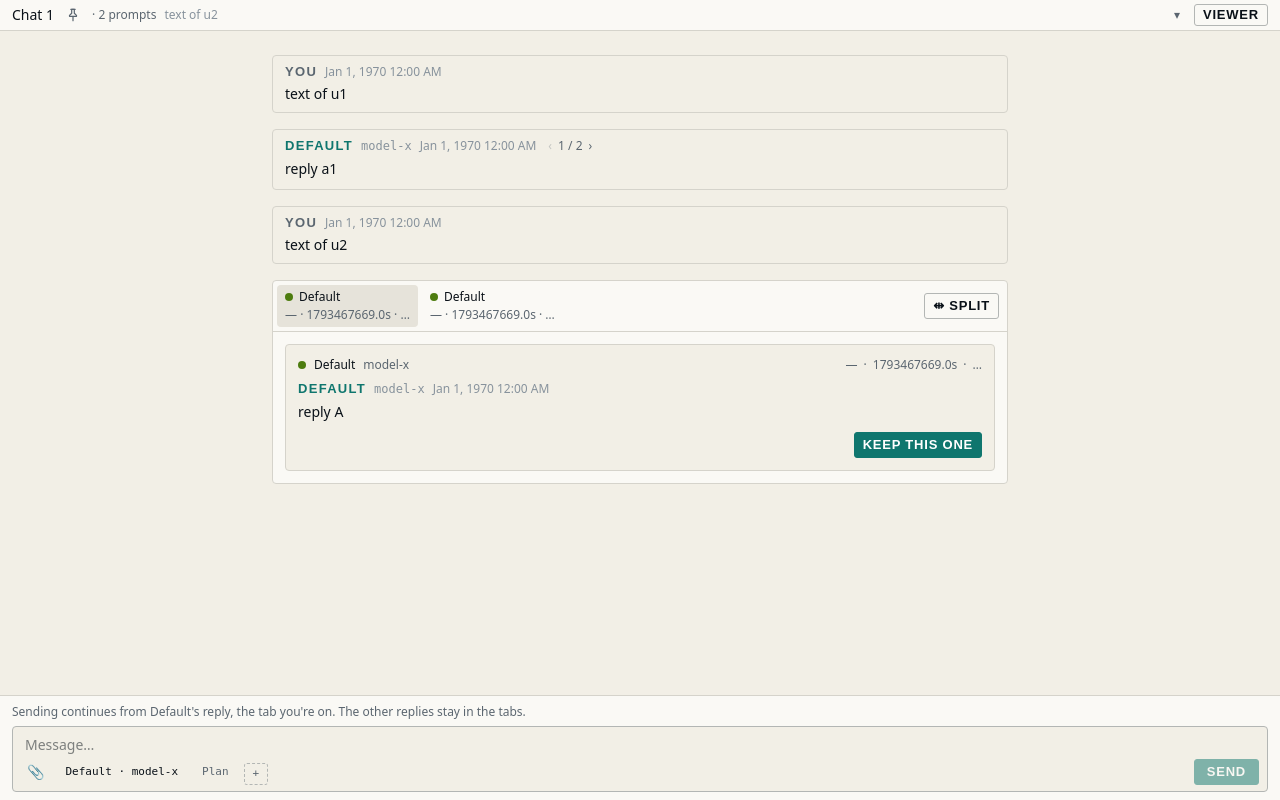
Test: Thread regenerate, edit and branch switching › a variant kept but never continued stays kept after switching branches away and back
What coordinates should you click on to do the following:
click the tab with test id "variant-tab-B"
I would click on:
 (492, 306)
Its box is [422,285,563,327].
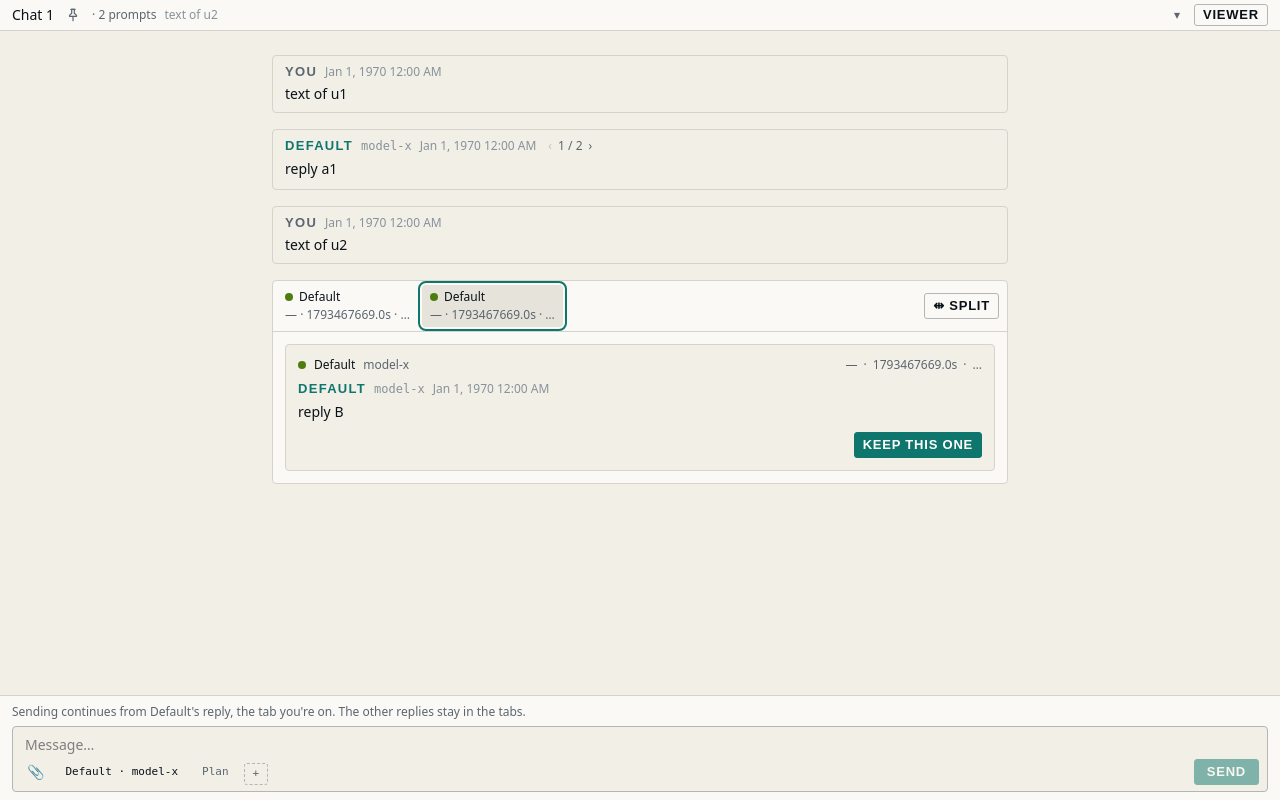
What coordinates should you click on to do the following:
click the button "Keep this one"
I would click on:
 (918, 445)
Its box is [854,432,982,458].
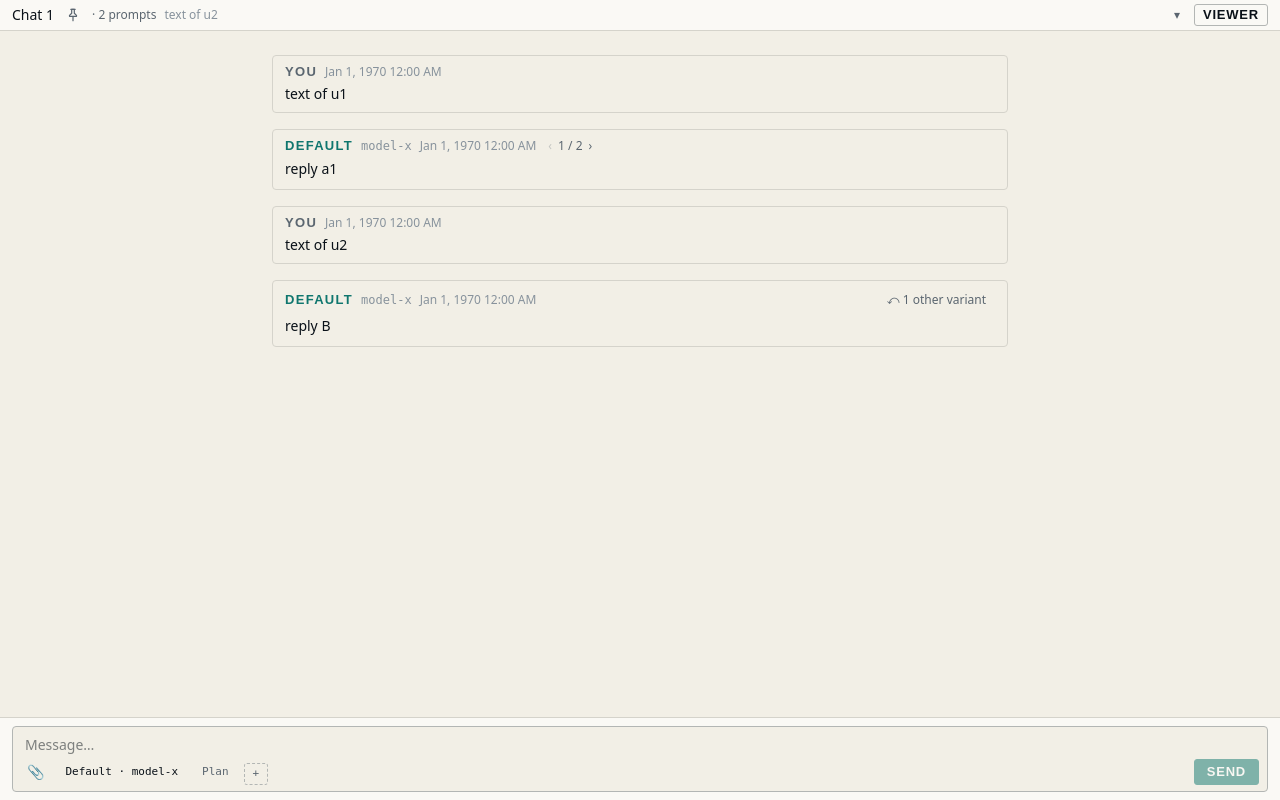
What coordinates should you click on to do the following:
click the button named "Next branch"
I would click on:
 (590, 146)
Its box is [584,140,596,152].
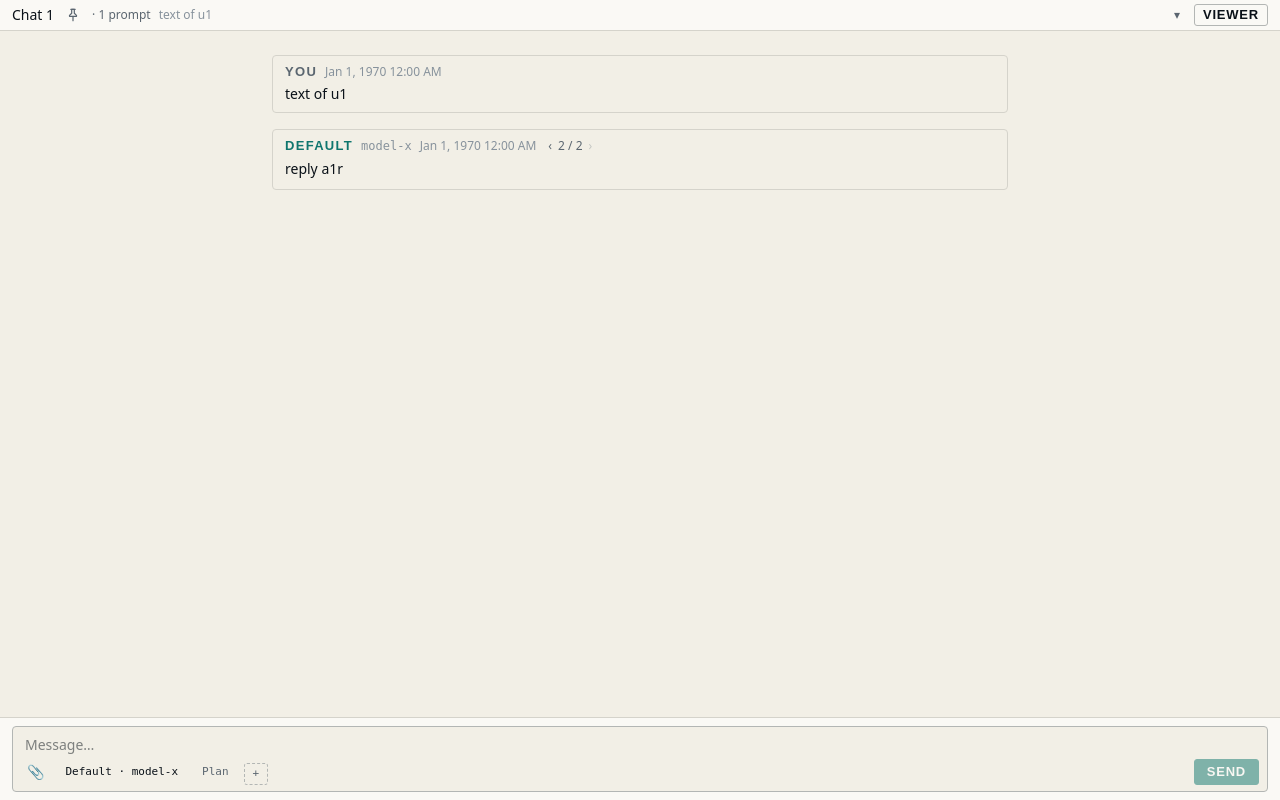
What coordinates should you click on to do the following:
click the button named "Previous branch"
I would click on:
 (550, 146)
Its box is [544,140,556,152].
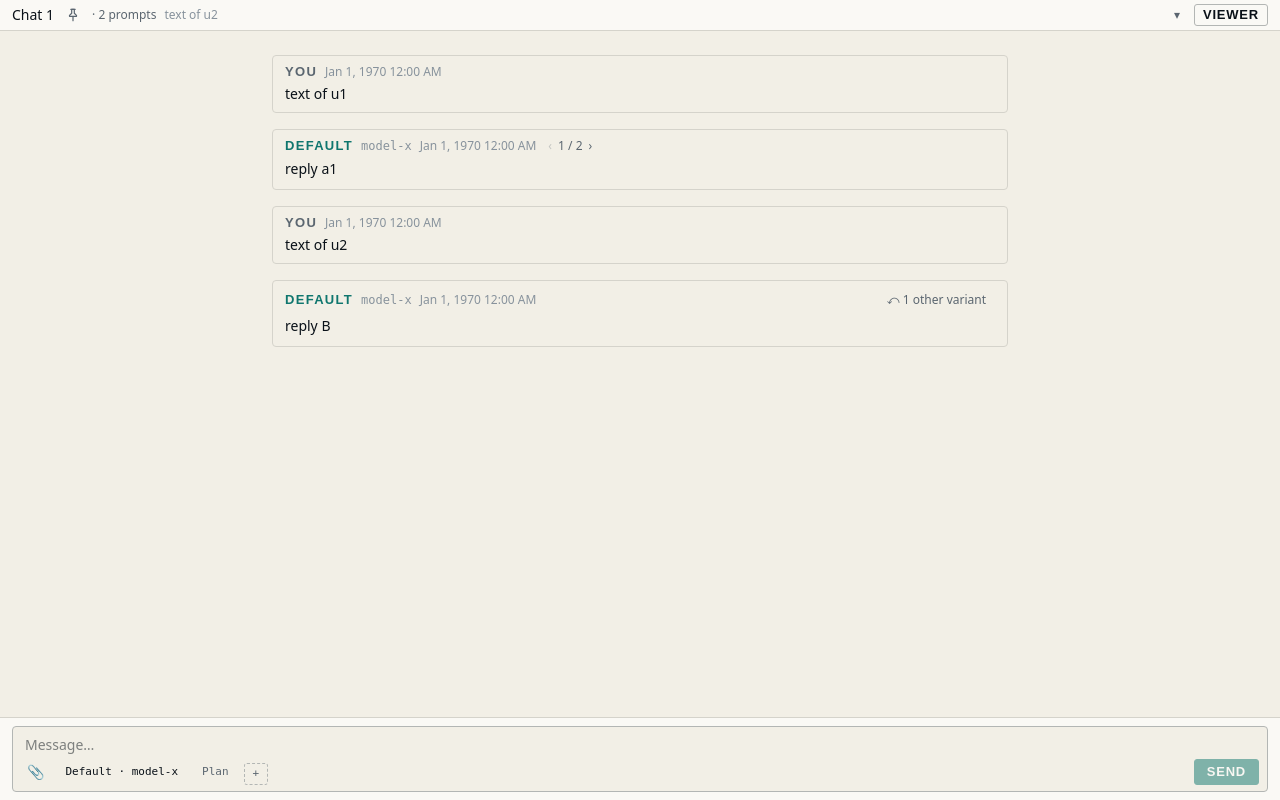
Expected: the button with test id "reopen-variants-chip" is shown, [878,289,995,311]
